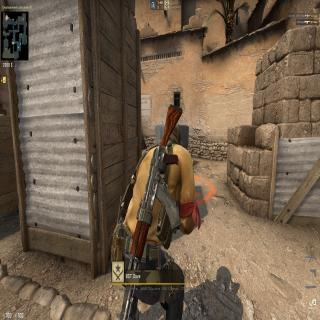T-Head: (163, 119, 183, 151)
